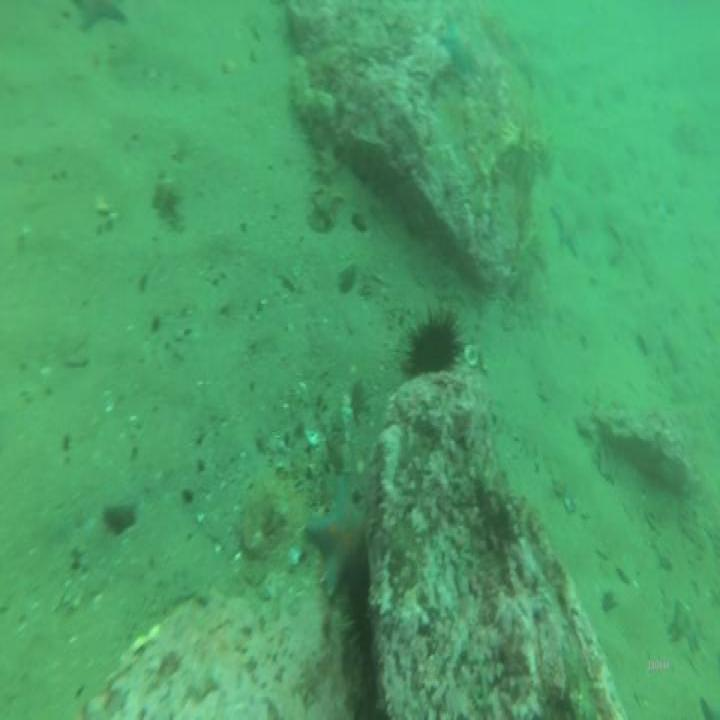echinus: (410, 316, 457, 372)
holothurian: (292, 57, 316, 128)
scallop: (285, 544, 303, 567), (466, 343, 480, 372), (305, 426, 320, 449)
starfish: (308, 476, 372, 598), (553, 198, 579, 252)
